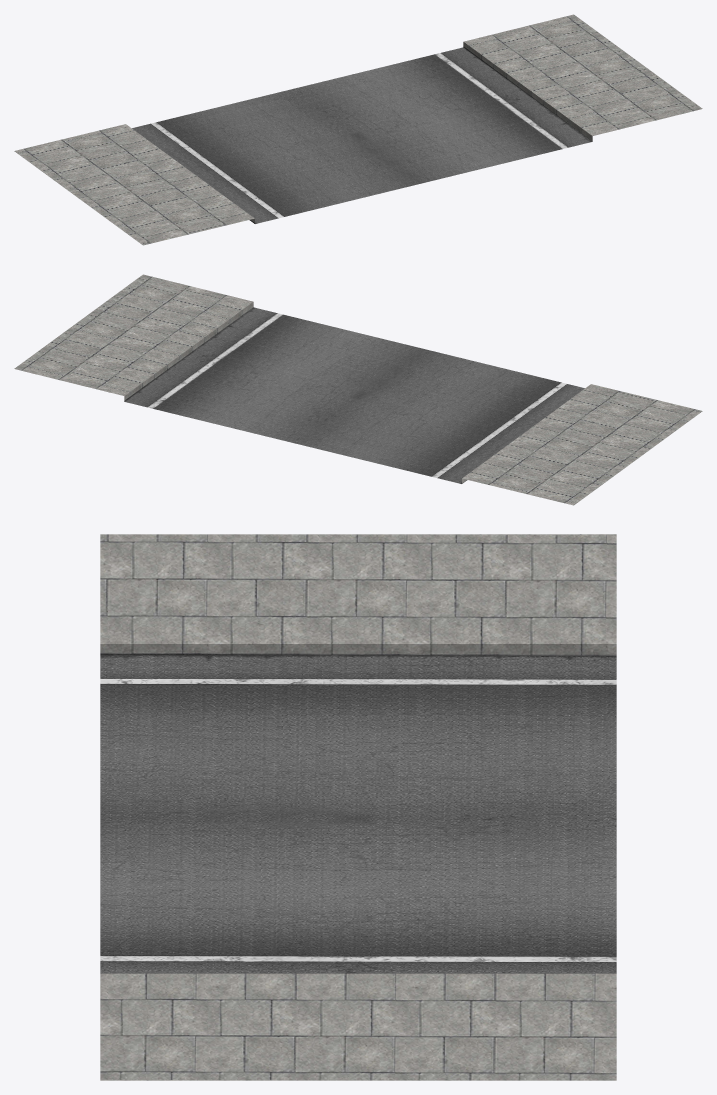
File: road.fbx
3 views of the same model, one above another, from view 1: azimuth 30°, elevation 25°; view 2: azimuth 150°, elevation 25°; view 3: azimuth 270°, elevation 25° (orthographic). The views are drawn at different scales.
Visible parts, largest first — view 1: Plane; view 2: Plane; view 3: Plane.
Boxes of the visible parts, x1,y1,x2,y2 form: Plane: [14, 14, 702, 245]; Plane: [14, 274, 702, 505]; Plane: [100, 534, 616, 1080].
Size of the model in its own units: 997 by 10.14 by 398.
